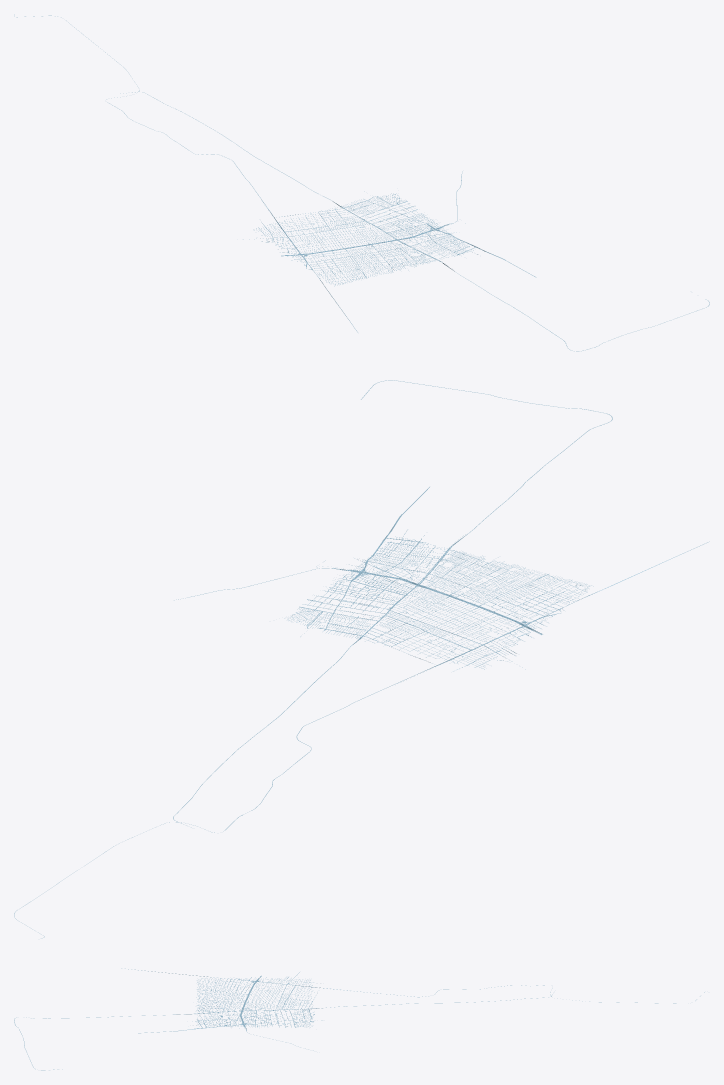
File: roads.glb
The picture shows the model from 3 angles, top to bottom: view 1: azimuth 30°, elevation 25°; view 2: azimuth 150°, elevation 25°; view 3: azimuth 270°, elevation 25°; orthographic projection. The views are drawn at different scales.
Parts seen in each view (by area): view 1: roads; view 2: roads; view 3: roads.
Boxes of the visible parts, left/top/right/bottom form: roads: left=14, top=14, right=709, bottom=351; roads: left=14, top=380, right=709, bottom=938; roads: left=14, top=968, right=704, bottom=1070.
Size of the model in its own units: 9595 by 73.72 by 27451.
